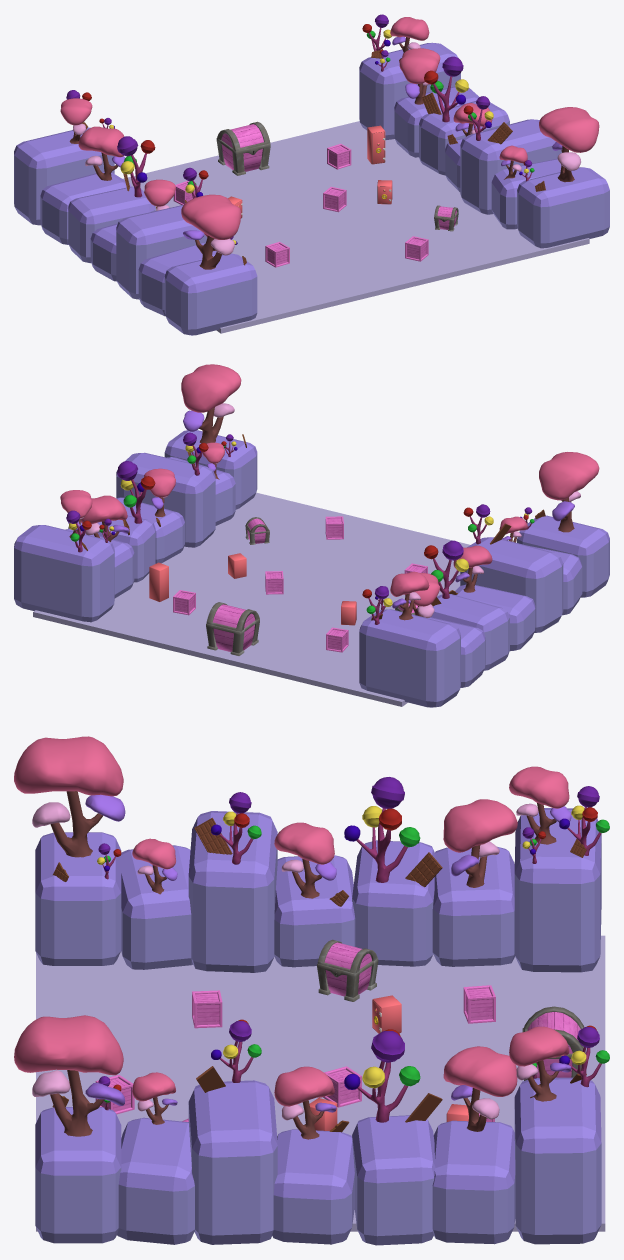
Rendered from Candy stage.fbx.
The picture shows the model from 3 angles, top to bottom: view 1: azimuth 30°, elevation 25°; view 2: azimuth 150°, elevation 25°; view 3: azimuth 270°, elevation 25°; orthographic projection. The views are drawn at different scales.
Visible parts, largest first — view 1: Cube, Cube.013, Cube.007, Vert.005, Vert.016, Circle.001, Vert.003, Vert.014, Vert.012, Vert.008, Vert.020, Vert.010 (+12 smaller); view 2: Cube, Cube.013, Cube.007, Vert.016, Vert.005, Circle.001, Vert.014, Vert.010, Vert.008, Vert.012, Vert.001, Vert.011 (+10 smaller); view 3: Cube.007, Cube.013, Cube, Vert.005, Vert.016, Vert.003, Vert.014, Vert.008, Vert.001, Circle.003, Vert.010, Vert.020 (+14 smaller).
Part boxes in pixels (x1,y1,x2,y2): Cube: [123, 121, 589, 333]; Cube.013: [14, 127, 257, 335]; Cube.007: [359, 42, 609, 248]; Vert.005: [181, 194, 241, 269]; Vert.016: [539, 107, 599, 182]; Circle.001: [216, 121, 270, 175]; Vert.003: [78, 126, 125, 180]; Vert.014: [399, 48, 440, 104]; Vert.012: [424, 56, 468, 122]; Vert.008: [117, 136, 155, 197]; Vert.020: [390, 17, 429, 61]; Vert.010: [60, 98, 92, 143]; Cube: [33, 492, 469, 706]; Cube.013: [359, 515, 609, 707]; Cube.007: [14, 430, 257, 622]; Vert.016: [181, 364, 241, 443]; Vert.005: [539, 452, 599, 532]; Circle.001: [206, 602, 259, 655]; Vert.014: [80, 495, 129, 541]; Vert.010: [390, 571, 429, 620]; Vert.008: [424, 540, 468, 598]; Vert.012: [117, 461, 155, 523]; Vert.001: [453, 545, 492, 592]; Vert.011: [144, 468, 175, 516]; Cube.007: [35, 1077, 601, 1245]; Cube.013: [35, 808, 601, 972]; Cube: [36, 935, 605, 1231]; Vert.005: [14, 736, 125, 857]; Vert.016: [14, 1015, 124, 1136]; Vert.003: [443, 799, 517, 887]; Vert.014: [443, 1046, 517, 1131]; Vert.008: [344, 777, 420, 882]; Vert.001: [274, 822, 336, 898]; Circle.003: [317, 939, 378, 1001]; Vert.010: [509, 766, 571, 844]; Vert.020: [509, 1026, 571, 1101].
Size of the model in its own units: 53.12 by 14.78 by 39.62.
